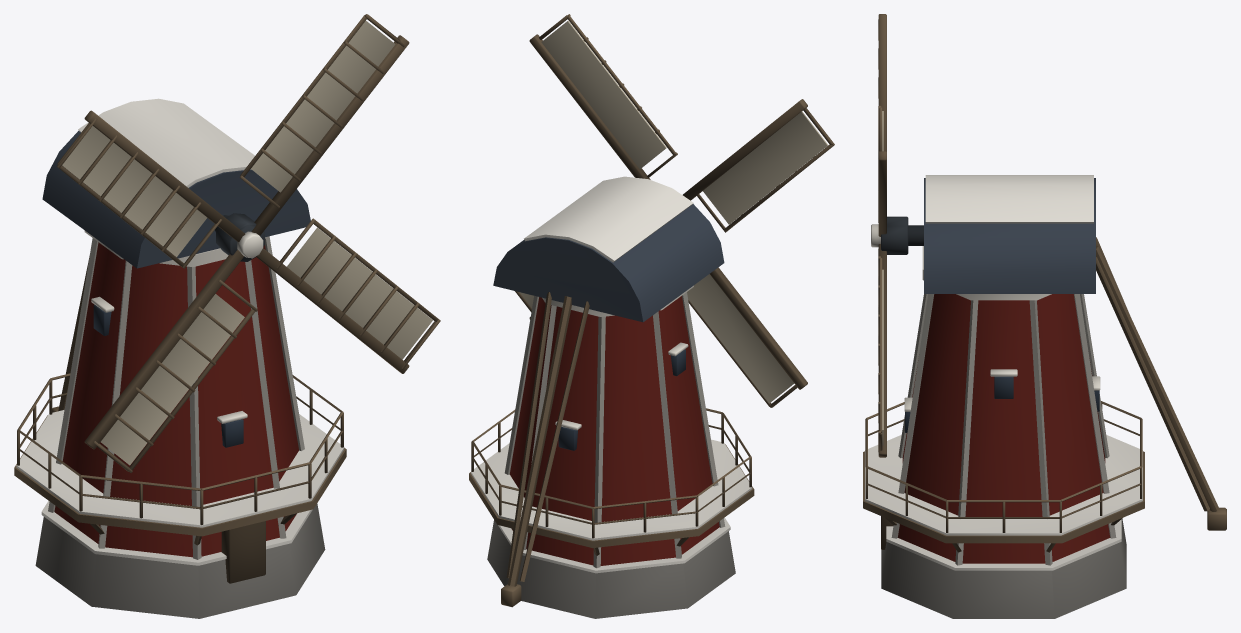
Rendered from windmill.glb.
3 views of the same model, side by side, from view 1: azimuth 30°, elevation 25°; view 2: azimuth 150°, elevation 25°; view 3: azimuth 270°, elevation 25° (orthographic). The views are drawn at different scales.
Parts seen in each view (by area): view 1: windmill_red_timber, windmill_rotor_pivot_canvas, windmill_rotor_pivot_wood, windmill_snow, windmill_stone, windmill_wood, windmill_slate, windmill_white_paint, windmill_glass, windmill_rotor_pivot_iron; view 2: windmill_red_timber, windmill_snow, windmill_rotor_pivot_canvas, windmill_slate, windmill_wood, windmill_stone, windmill_rotor_pivot_wood, windmill_white_paint, windmill_glass; view 3: windmill_red_timber, windmill_snow, windmill_slate, windmill_stone, windmill_wood, windmill_white_paint, windmill_rotor_pivot_wood, windmill_rotor_pivot_iron, windmill_glass.
Part boxes in pixels (x1,y1,x2,y2): windmill_red_timber: (54,242,298,557); windmill_rotor_pivot_canvas: (62,20,432,465); windmill_rotor_pivot_wood: (56,14,440,472); windmill_snow: (16,98,344,565); windmill_stone: (35,503,325,618); windmill_wood: (14,256,346,583); windmill_slate: (42,130,310,268); windmill_white_paint: (48,230,304,559); windmill_glass: (93,304,243,447); windmill_rotor_pivot_iron: (216,213,264,261); windmill_red_timber: (509,296,719,565); windmill_snow: (471,176,752,573); windmill_rotor_pivot_canvas: (519,20,827,403); windmill_slate: (493,204,724,322); windmill_wood: (469,292,754,607); windmill_stone: (487,520,735,618); windmill_rotor_pivot_wood: (515,14,834,407); windmill_white_paint: (504,285,725,568); windmill_glass: (558,349,685,450); windmill_red_timber: (897,294,1110,563); windmill_snow: (865,175,1142,570); windmill_slate: (924,178,1095,293); windmill_stone: (881,518,1126,618); windmill_wood: (863,237,1226,552); windmill_white_paint: (891,246,1116,565); windmill_rotor_pivot_wood: (878,14,886,457); windmill_rotor_pivot_iron: (881,216,908,254); windmill_glass: (905,376,1099,432).
Bounding box in the file's own units: 10.29 × 14.49 × 9.3.
